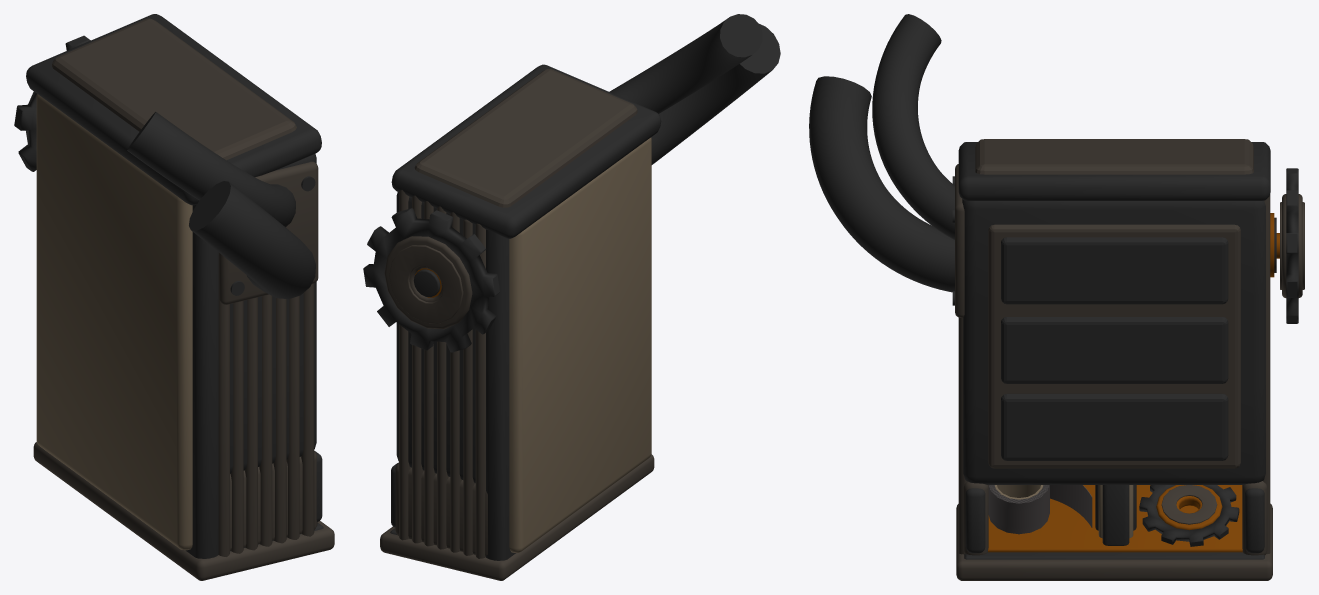
File: Выдача.fbx
3 renders of one model, left to right at view 1: azimuth 30°, elevation 25°; view 2: azimuth 150°, elevation 25°; view 3: azimuth 270°, elevation 25°, orthographic. The views are drawn at different scales.
Parts seen in each view (by area): view 1: Cube_22, Cube_30, Cube_29, Cube_1, Torus, Torus_1, Cube_19, Cube_1_2, Cube_23, Cube_5, Cube_11, Cube_8 (+7 smaller); view 2: Cube_22, Cube_30, Шестеренушка, Cube_29, Cube_1, Torus_1, Cube_19, Torus, Cube_1_2, Cube_18, Cube_17, Cube_12 (+6 smaller); view 3: Cube_1_2, Cube_4, Cube_28, Cube_26, Cube_27, Torus, Torus_1, Cube_30, Cube_29, Cube_19, Cube_20, Шестеренушка_1_2 (+11 smaller).
Boxes of the visible parts, x1,y1,x2,y2 form: Cube_22: (36, 94, 192, 550); Cube_30: (52, 18, 296, 160); Cube_29: (26, 14, 321, 205); Cube_1: (185, 204, 218, 558); Torus: (189, 181, 315, 299); Torus_1: (127, 112, 295, 227); Cube_19: (33, 442, 334, 580); Cube_1_2: (230, 154, 316, 473); Cube_23: (219, 161, 318, 304); Cube_5: (218, 252, 229, 556); Cube_11: (301, 283, 314, 536); Cube_8: (259, 294, 272, 546); Cube_22: (509, 137, 651, 552); Cube_30: (414, 69, 637, 207); Шестеренушка: (363, 208, 499, 352); Cube_29: (391, 64, 661, 238); Cube_1: (486, 229, 515, 560); Torus_1: (609, 14, 762, 113); Cube_19: (380, 454, 654, 580); Torus: (651, 24, 780, 164); Cube_1_2: (396, 192, 475, 483); Cube_18: (475, 223, 485, 558); Cube_17: (463, 219, 474, 555); Cube_12: (399, 190, 410, 540); Cube_1_2: (962, 199, 1265, 484); Cube_4: (988, 224, 1240, 468); Cube_28: (1001, 237, 1228, 304); Cube_26: (1001, 393, 1228, 460); Cube_27: (1001, 317, 1228, 383); Torus: (809, 76, 954, 292); Torus_1: (872, 14, 954, 239); Cube_30: (975, 139, 1253, 174); Cube_29: (958, 142, 1270, 200); Cube_19: (956, 503, 1272, 580); Cube_20: (988, 485, 1242, 552); Шестеренушка_1_2: (1139, 485, 1239, 546).
Bounding box in the file's own units: 172 × 354 × 335.
